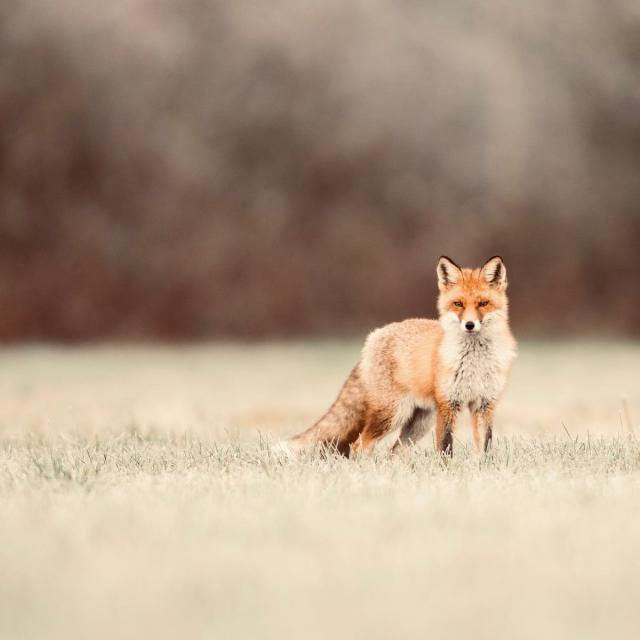fox: (268, 254, 517, 464)
